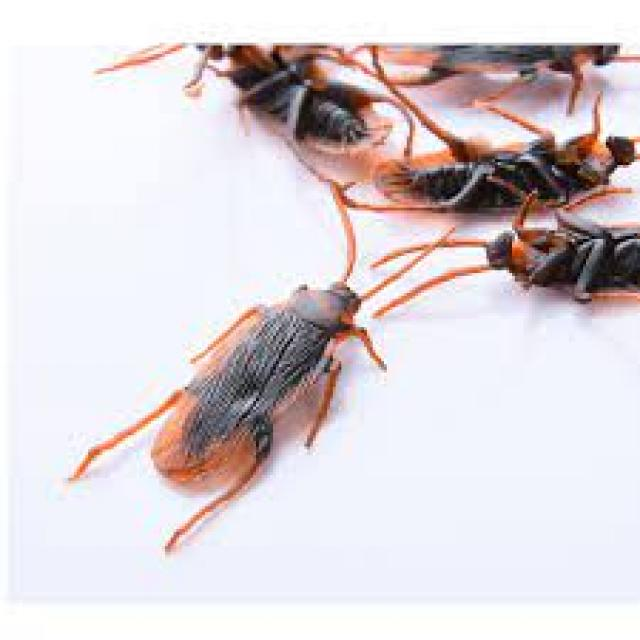Cockroach: (61, 172, 449, 572), (356, 183, 640, 344), (342, 102, 640, 242)
